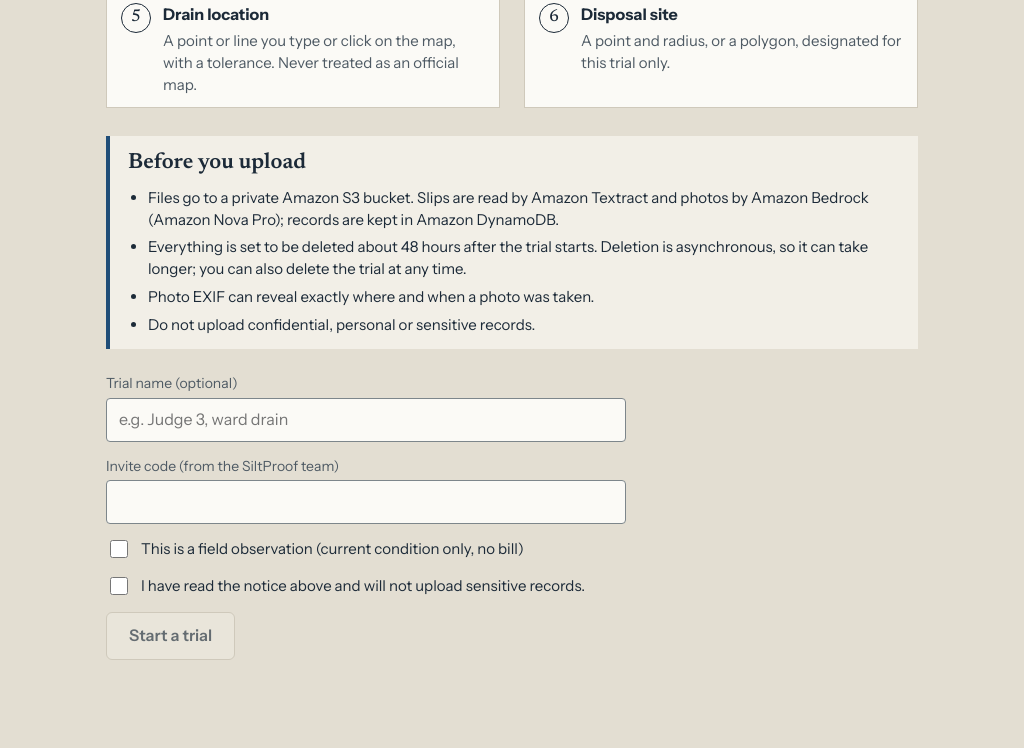
Test: judge trial › surfaces a 409 while files are still processing
(page scrolled)
Expected: the button "Start a trial" is disabled, [106, 612, 235, 660]
Click the checkbox labelled "will not upload sensitive records" at (119, 586), box [110, 577, 128, 595]
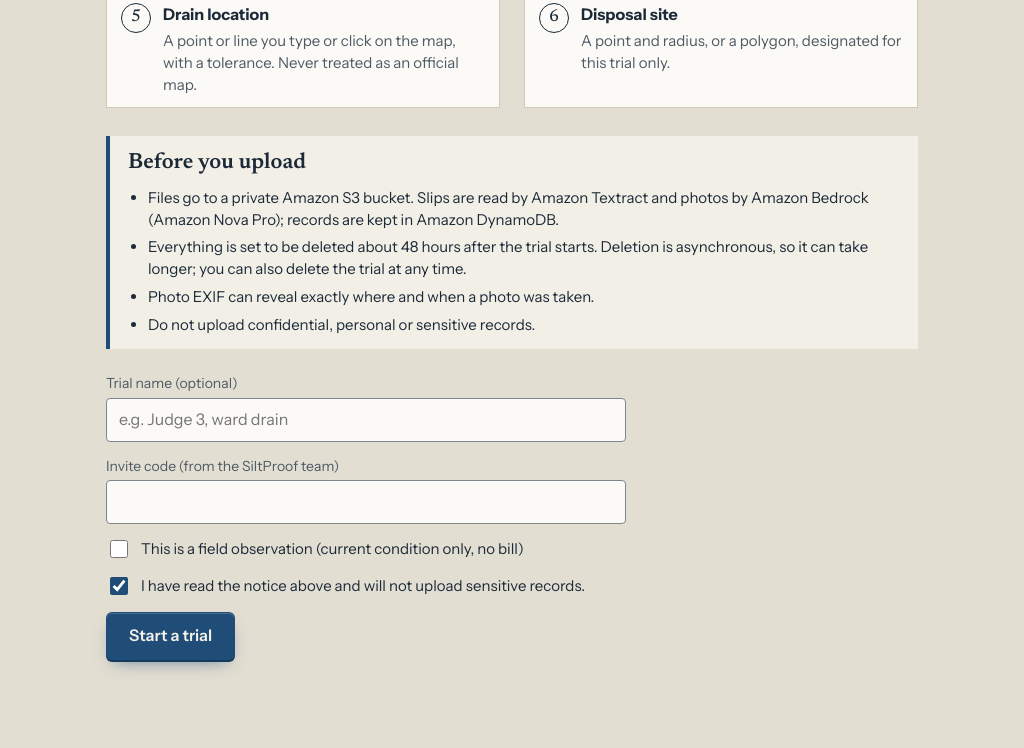
Click the button "Start a trial" at (171, 636), box [106, 612, 235, 660]
(page scrolled)
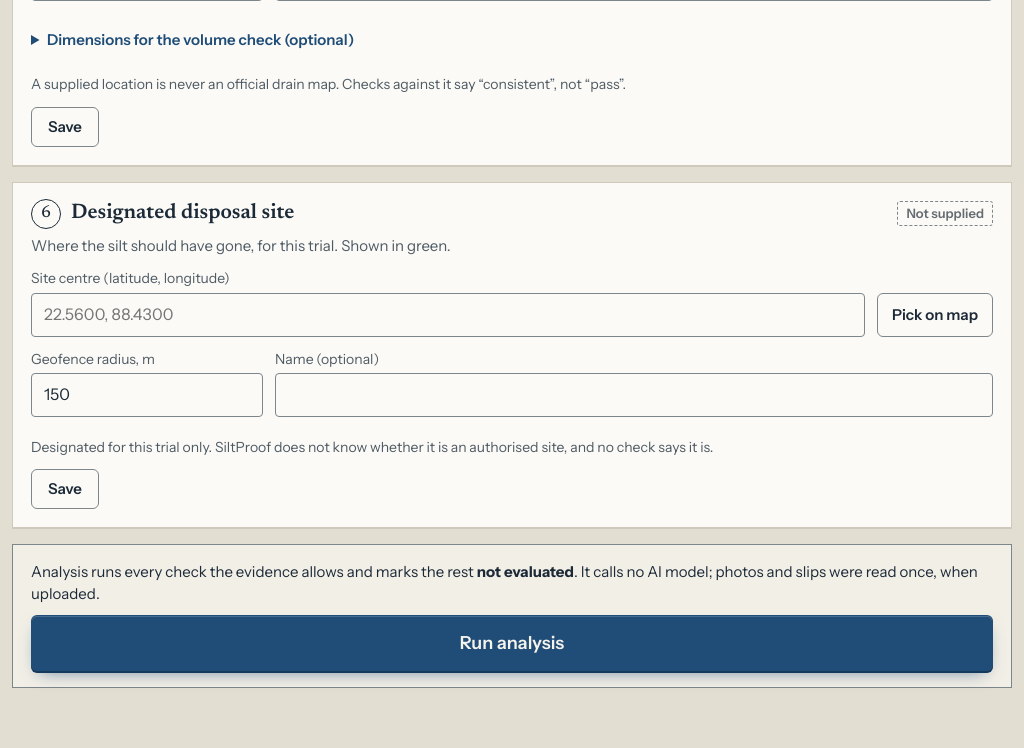
Click the button "Run analysis" at (512, 643), box [31, 615, 993, 671]
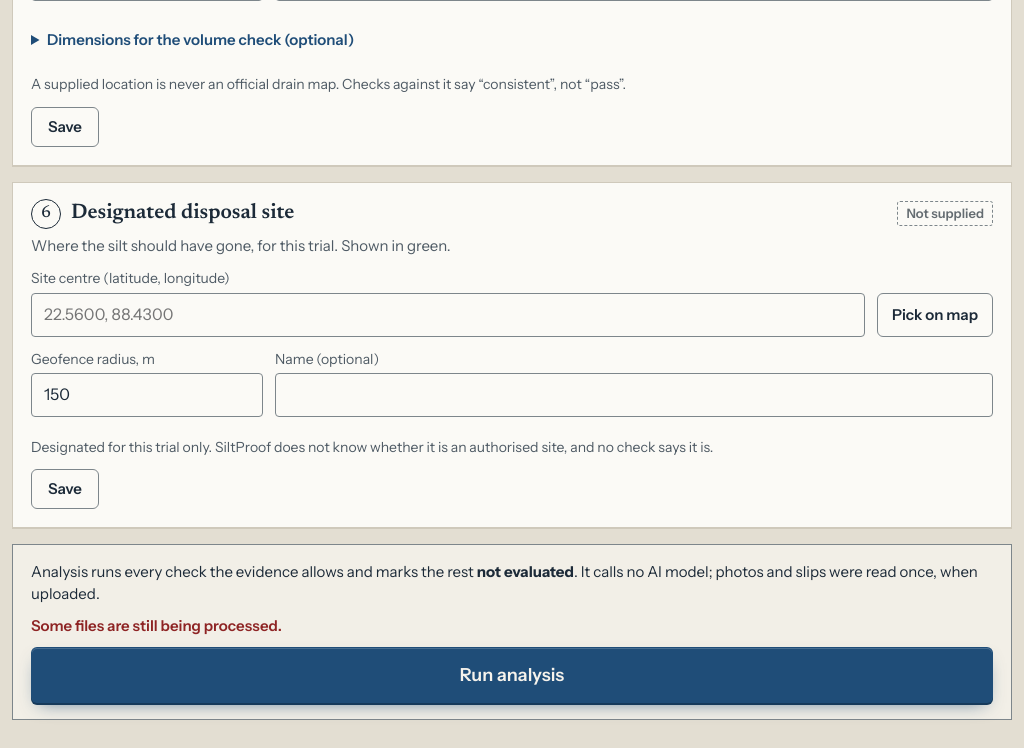
Result: the text "Some files are still being processed." is shown at [31, 616, 282, 635]
